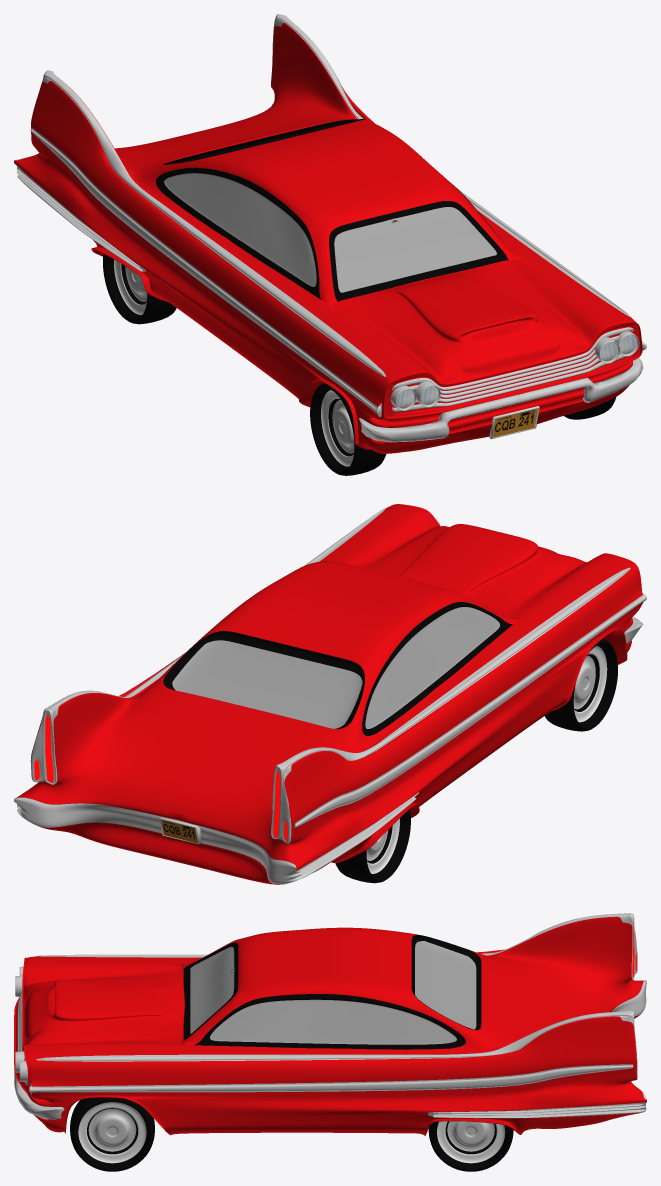
The model's file is retro_car.glb.
3 views of the same model, one above another, from view 1: azimuth 30°, elevation 25°; view 2: azimuth 150°, elevation 25°; view 3: azimuth 270°, elevation 25° (orthographic). The views are drawn at different scales.
Visible parts, largest first — view 1: RetroCar; view 2: RetroCar; view 3: RetroCar.
Part boxes in pixels (bbox=[...]): RetroCar: bbox=[14, 14, 646, 475]; RetroCar: bbox=[14, 504, 646, 884]; RetroCar: bbox=[14, 913, 646, 1171].
Size of the model in its own units: 4.9 by 3.04 by 10.7.
Materials: 9 (2 with a texture image).
